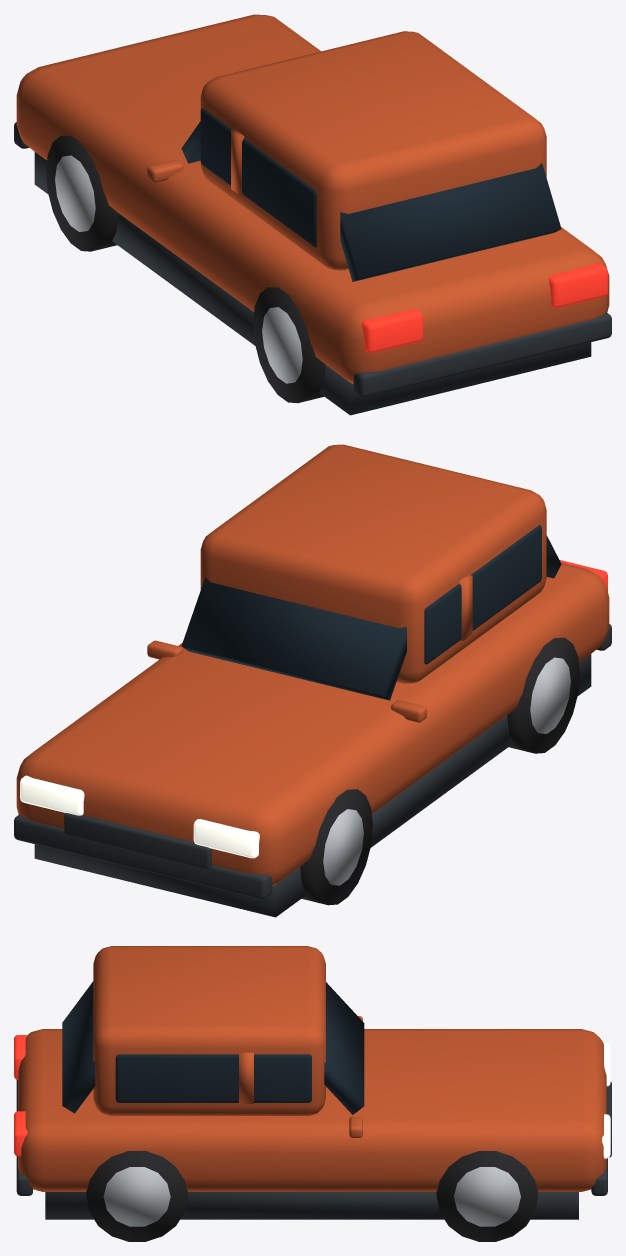
File: car.glb
3 views of the same model, one above another, from view 1: azimuth 30°, elevation 25°; view 2: azimuth 150°, elevation 25°; view 3: azimuth 270°, elevation 25° (orthographic). The views are drawn at different scales.
Visible parts, largest first — view 1: car_0; view 2: car_0; view 3: car_0.
Part boxes in pixels (<box>): car_0: <box>14,14,611,415</box>; car_0: <box>14,444,611,917</box>; car_0: <box>14,946,611,1241</box>.
Bounding box in the file's own units: 1.96 × 1.61 × 4.37.
